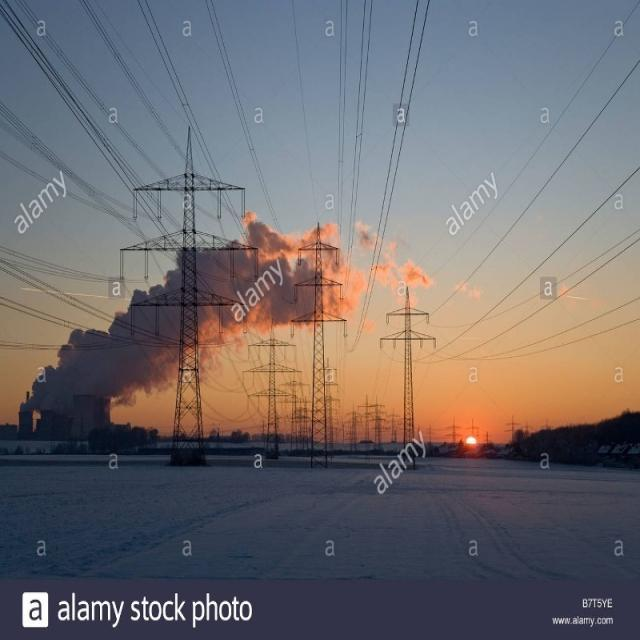non-critical vegetation: (117, 124, 256, 462), (288, 218, 343, 458), (378, 280, 436, 460), (246, 320, 297, 450)
